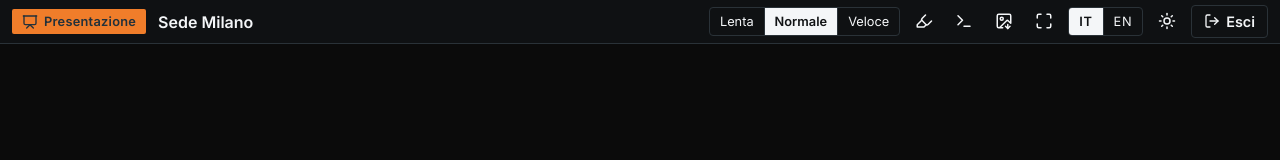
PresentationBar › full screen › goes full screen and back, and leaves it with the presentation
Later steps or results of the test are not shown.
What coordinates should you click on to do the following:
click the button named "Schermo intero"
I would click on:
 (1044, 22)
Its box is [1028,6,1060,38].
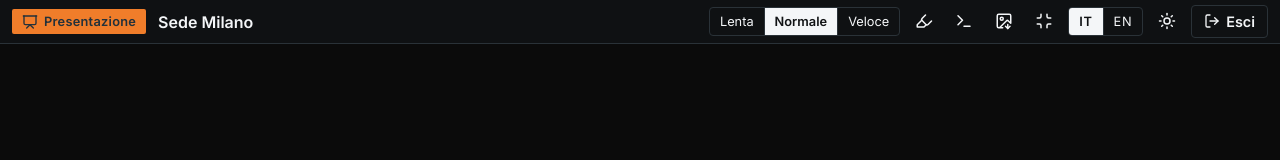
Now the button named "Esci dallo schermo intero" is shown, box [1028,6,1060,38]
